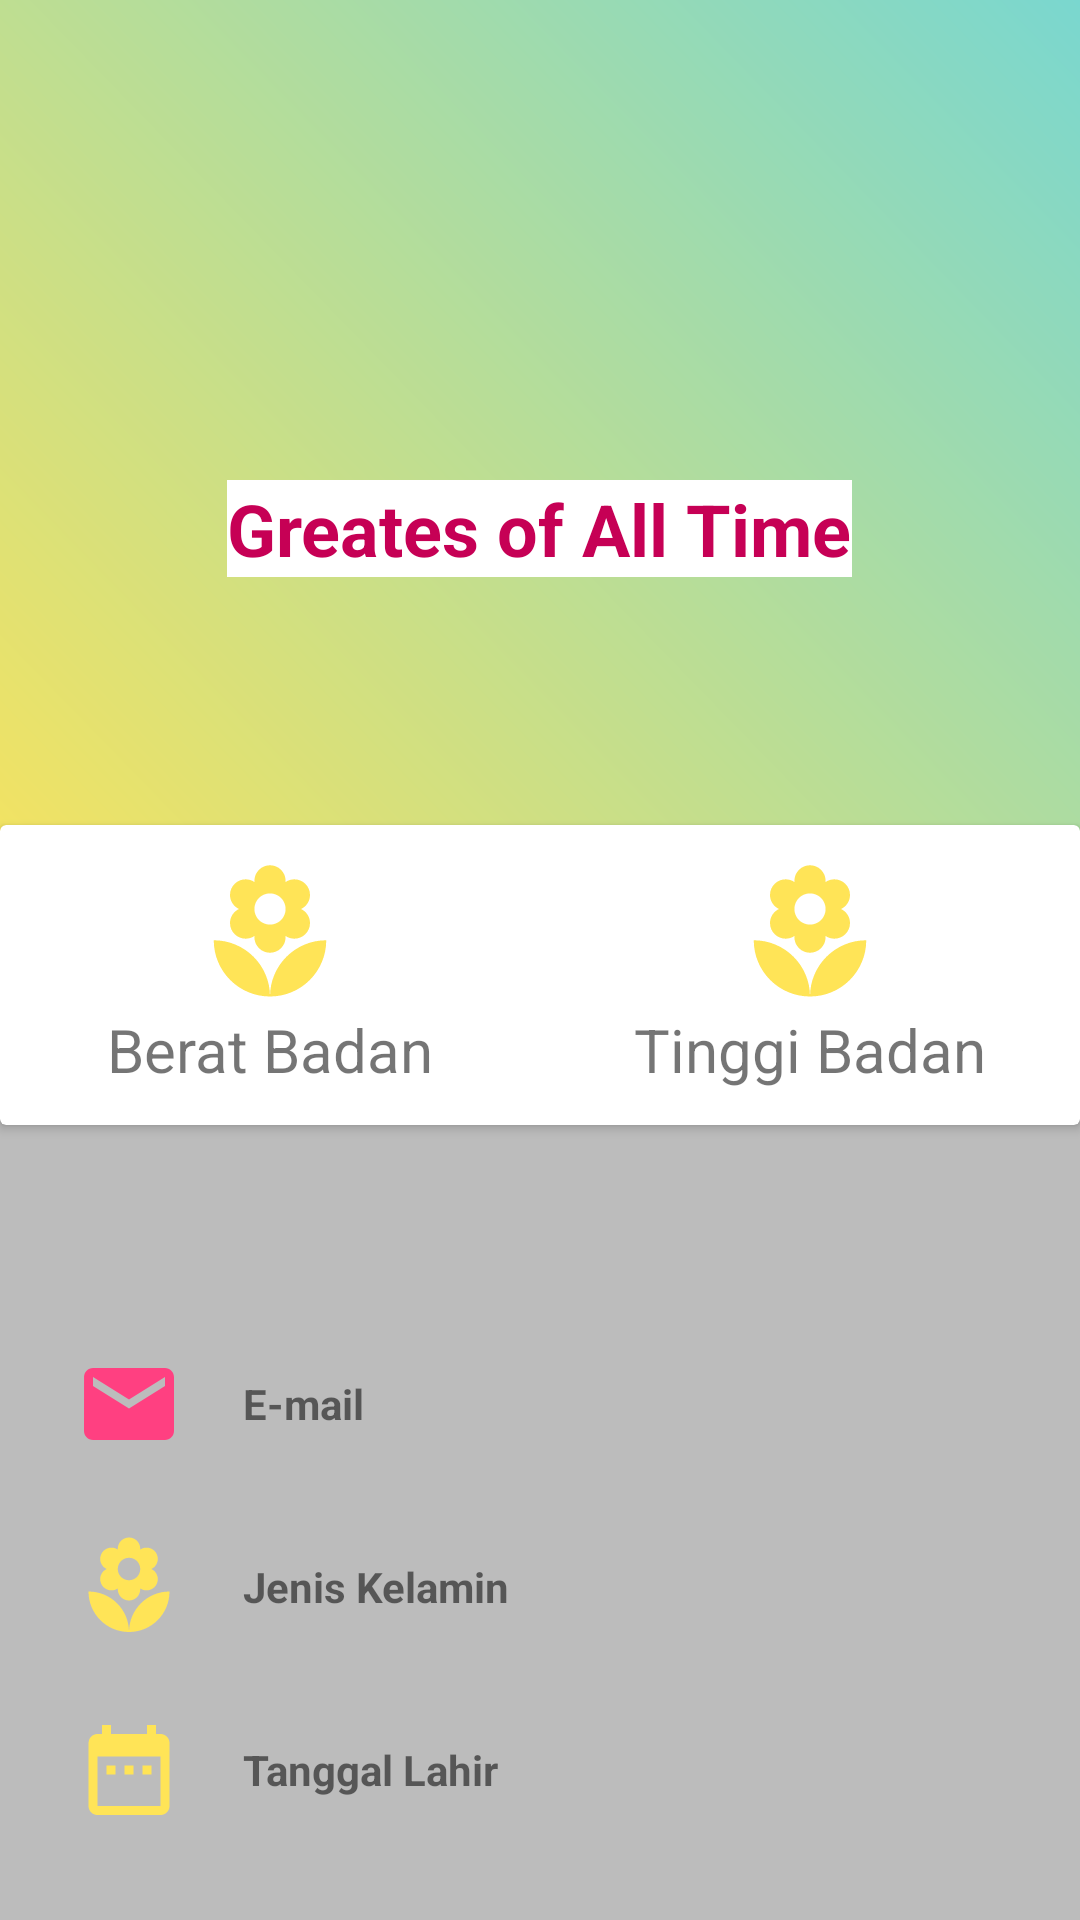

Where icons sit on this 1080 × 1920 app screen, as (x1, y1, x2, y2):
date range: (88, 1725, 170, 1815)
local florist: (213, 865, 327, 997), (753, 865, 867, 997), (88, 1537, 170, 1632)
